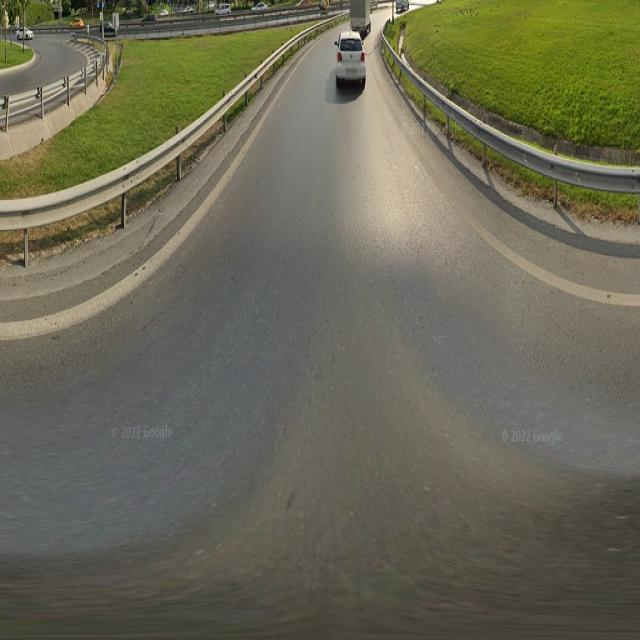Guard rail: (1, 116, 263, 343)
Pedestrian crosswalk: (467, 220, 629, 311)
Road: (104, 89, 593, 616)
